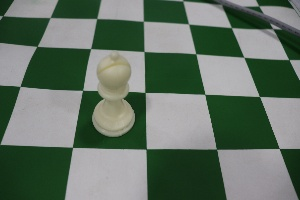white_bishop: (74, 41, 142, 144)
